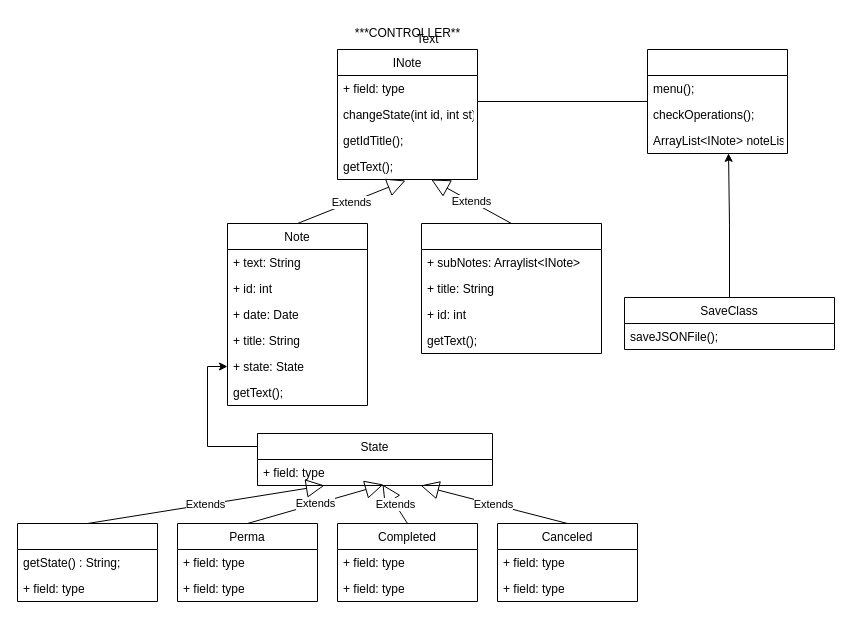
The diagram is 852 pixels wide and 621 high, and some of its shapes have lost their labels. The box of each missing label's shape, as (x1, y1, x2, y2) in pixels:
Creator: (646, 48, 788, 154)
Incomplete: (16, 522, 158, 602)
NoteGroup: (420, 222, 602, 354)
